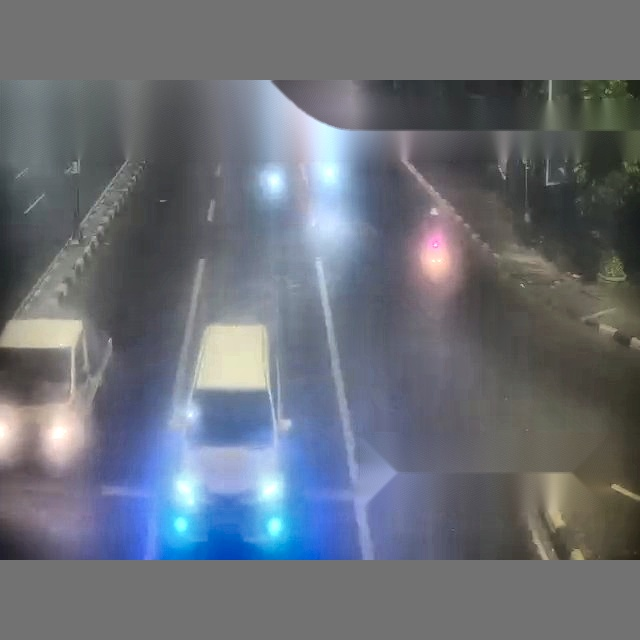Mobil: (178, 322, 291, 558)
